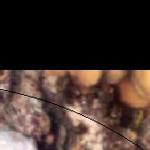alive: (4, 72, 148, 146)
